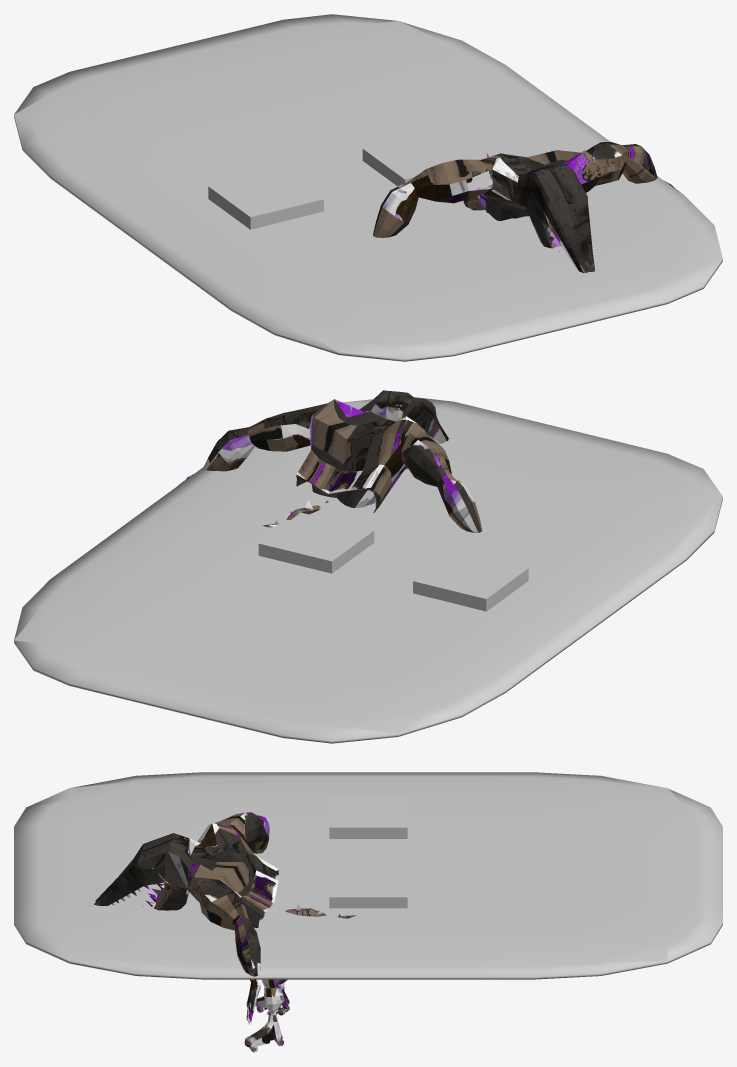
Rendered from cocodrilaBonesSelect_000061.obj.
3 views of the same model, one above another, from view 1: azimuth 30°, elevation 25°; view 2: azimuth 150°, elevation 25°; view 3: azimuth 270°, elevation 25° (orthographic). The views are drawn at different scales.
Visible parts, largest first — view 1: Mball, Crocodile.002_Cylinder.002, Cube, Cube.001; view 2: Mball, Crocodile.002_Cylinder.002, Cube, Cube.001; view 3: Mball, Crocodile.002_Cylinder.002, Cube, Cube.001.
Boxes of the visible parts, x1,y1,x2,y2 form: Mball: (14,14,722,361); Crocodile.002_Cylinder.002: (373,141,683,273); Cube: (208,168,323,229); Cube.001: (362,130,474,186); Mball: (14,397,722,743); Crocodile.002_Cylinder.002: (179,390,482,532); Cube: (413,550,528,611); Cube.001: (258,512,374,573); Mball: (14,772,722,979); Crocodile.002_Cylinder.002: (94,812,355,1052); Cube: (329,794,407,838); Cube.001: (329,864,407,908).
Size of the model in its own units: 13.14 by 5.4 by 18.18.
